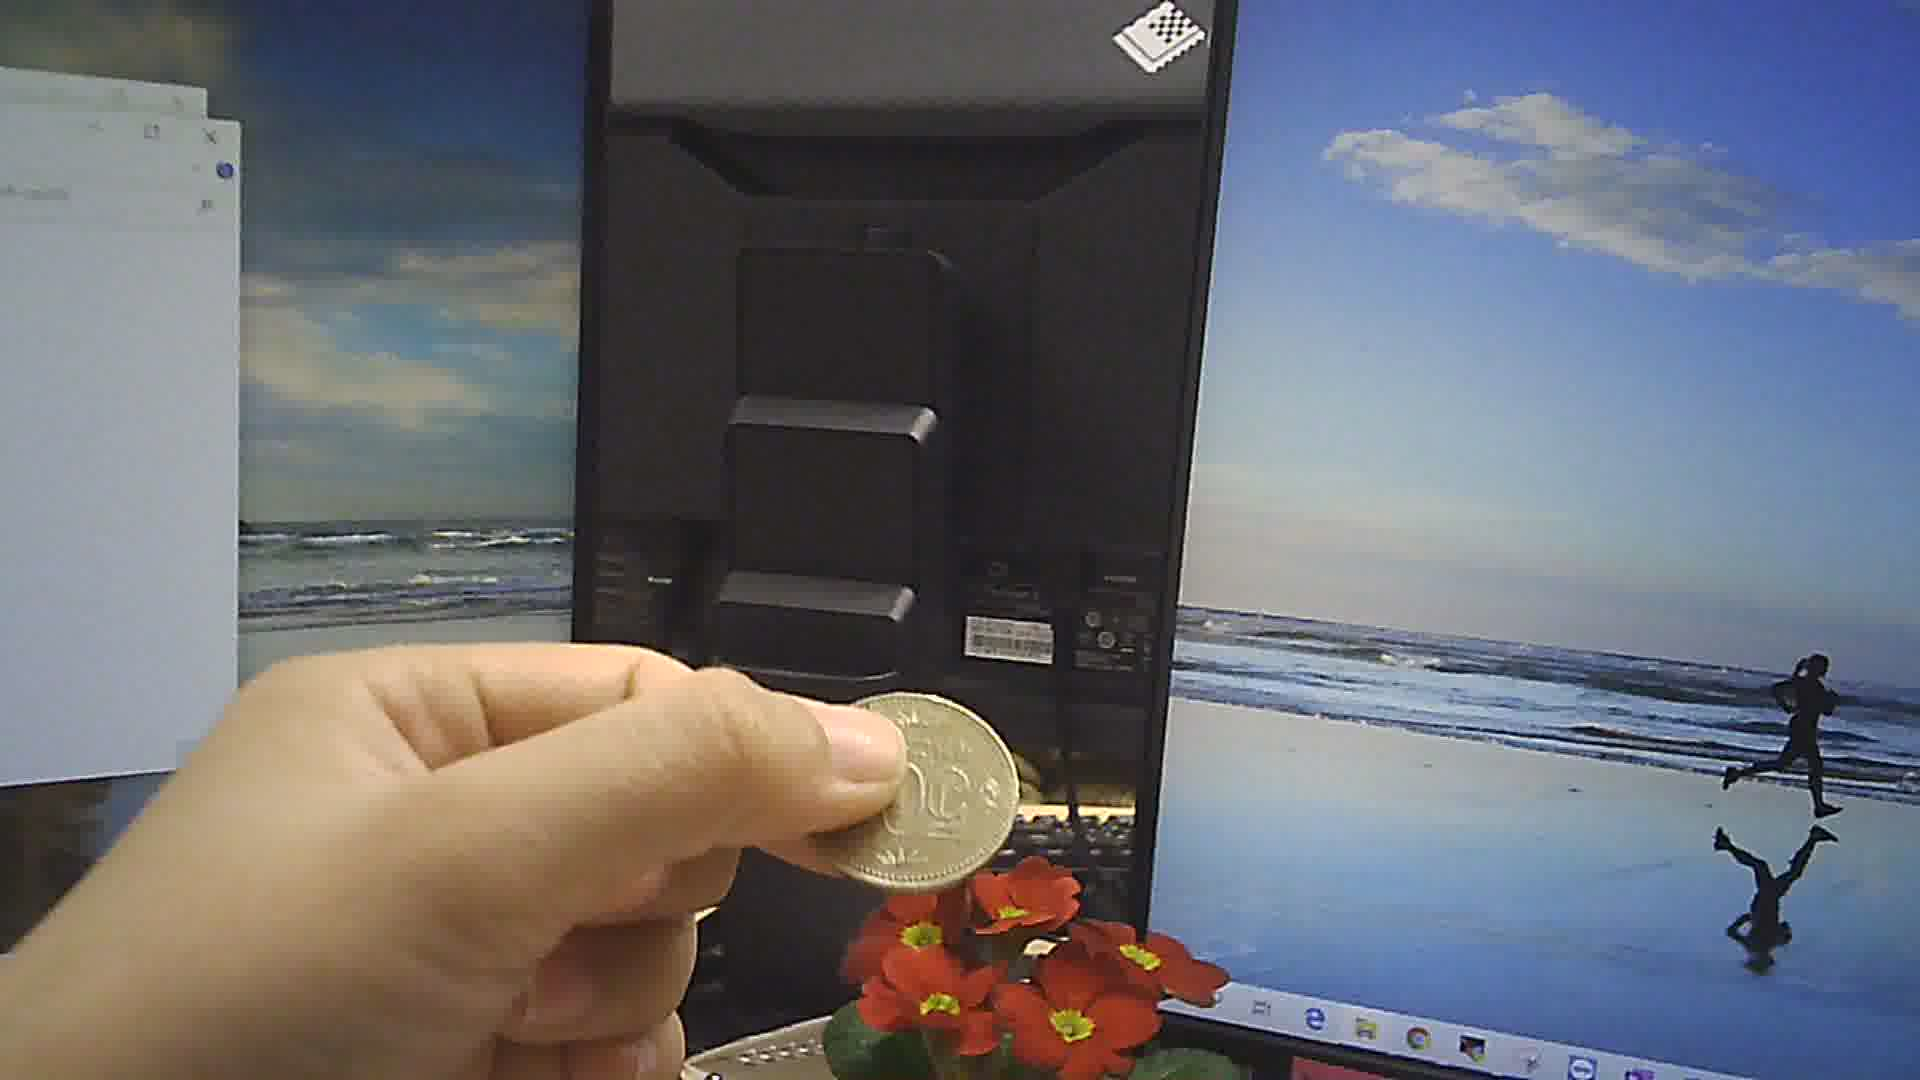500 Yen: (804, 683, 1021, 897)
